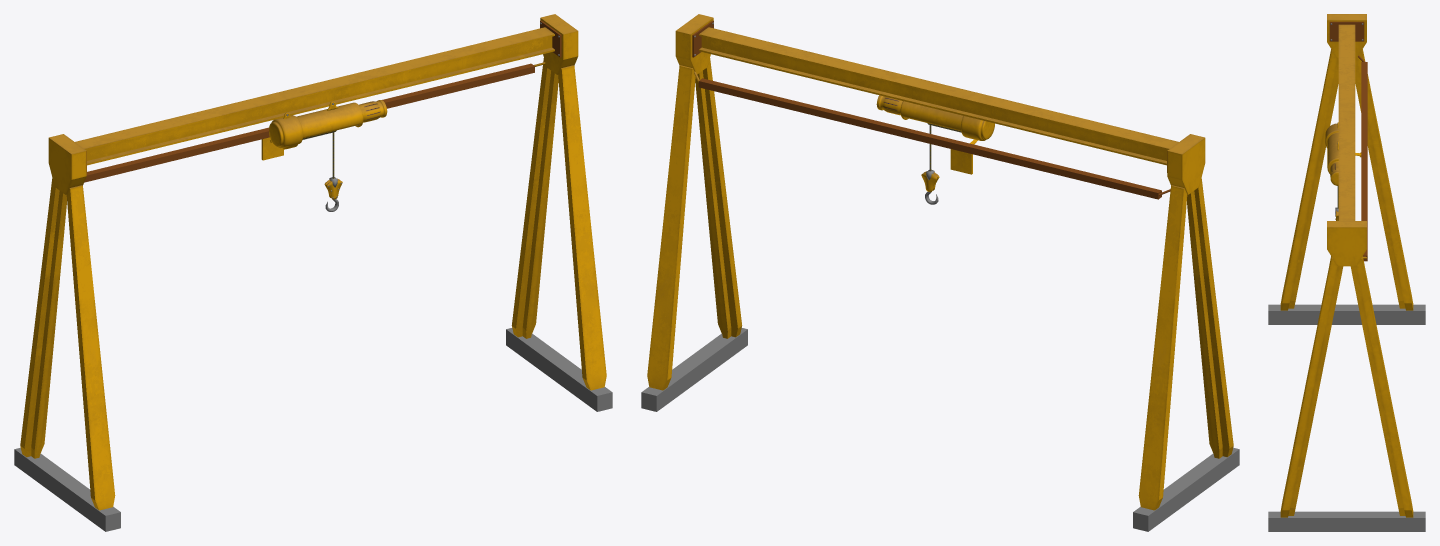
The model's file is gantry_crane.glb.
3 renders of one model, left to right at view 1: azimuth 30°, elevation 25°; view 2: azimuth 150°, elevation 25°; view 3: azimuth 270°, elevation 25°, orthographic. The views are drawn at different scales.
Visible parts, largest first — view 1: Cylinder.001; view 2: Cylinder.001; view 3: Cylinder.001.
Boxes of the visible parts, x1=… form: Cylinder.001: x1=14, y1=14, x2=612, y2=531; Cylinder.001: x1=641, y1=14, x2=1239, y2=531; Cylinder.001: x1=1268, y1=14, x2=1425, y2=531.
Size of the model in its own units: 8.53 by 5.62 by 2.63.
1 material, 1 textured.
